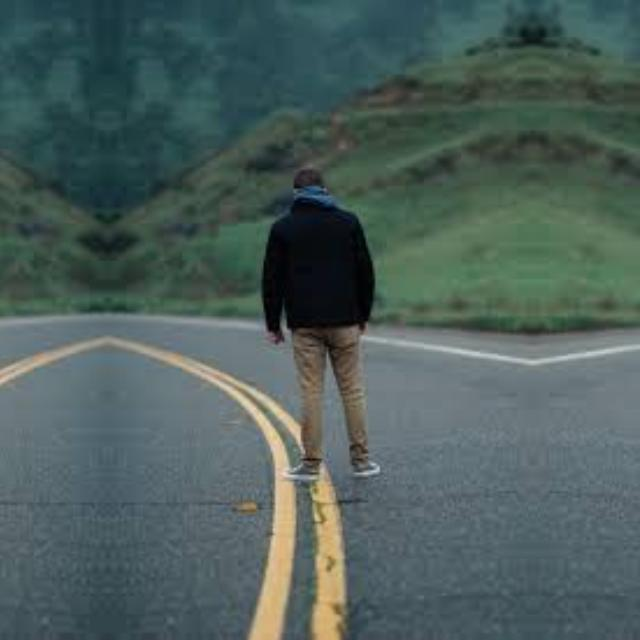person: (252, 154, 408, 501)
